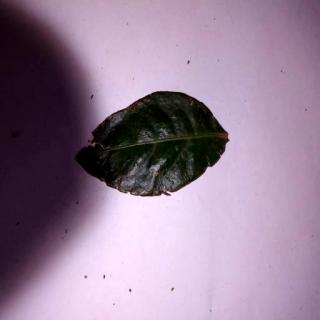Bird Eye Spot: (77, 91, 231, 198)
